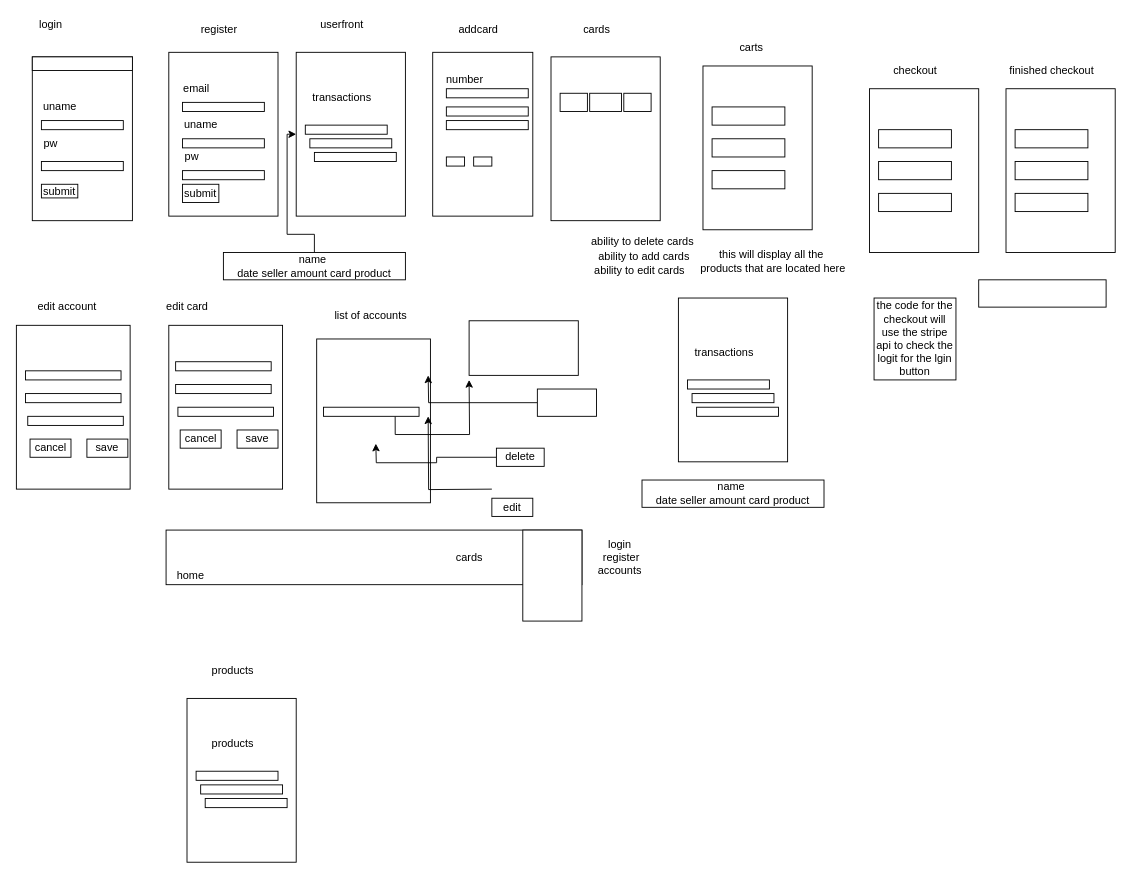
Image size: 1131x878. Some labels were removed from this diagram. The centre of each missing label's shape, as x and y in pixels:
Account ID and account type balance: pixel 523 347
add acc: pixel 566 402
have a session that says you finsihed the checkout: pixel 1042 293
